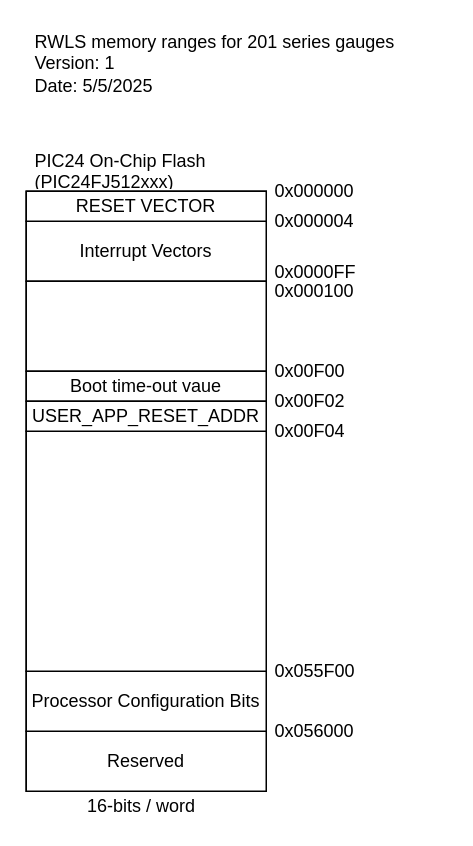
This 473x846 diagram has some shape labels left out. Each missing label, with the centre of its shape:
Bootloader Image: point (145, 325)
RWLS FW Application: point (145, 550)
